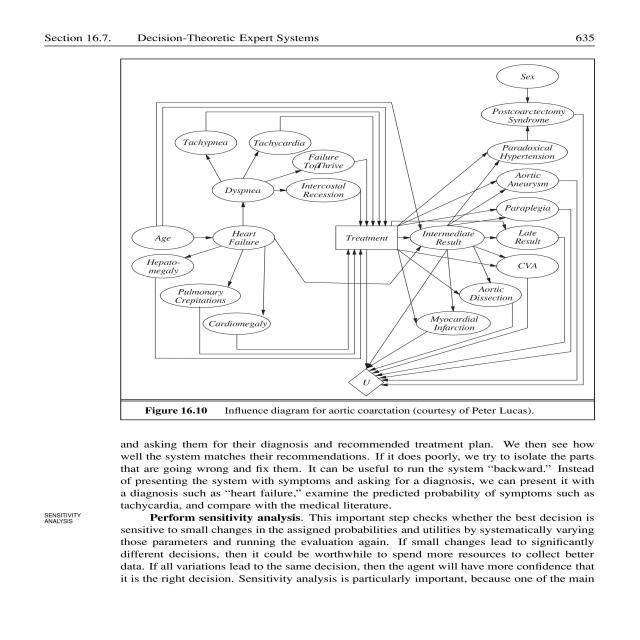diagram: (121, 60, 596, 420)
